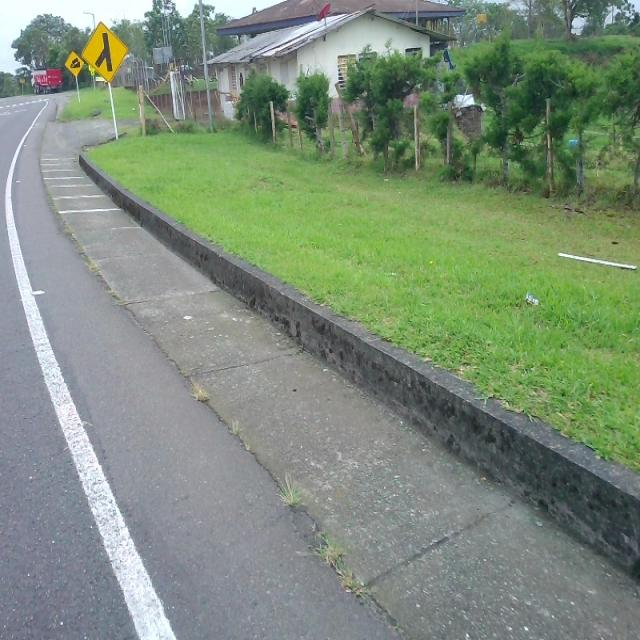DITCH: (39, 89, 638, 637), (2, 124, 638, 638)
